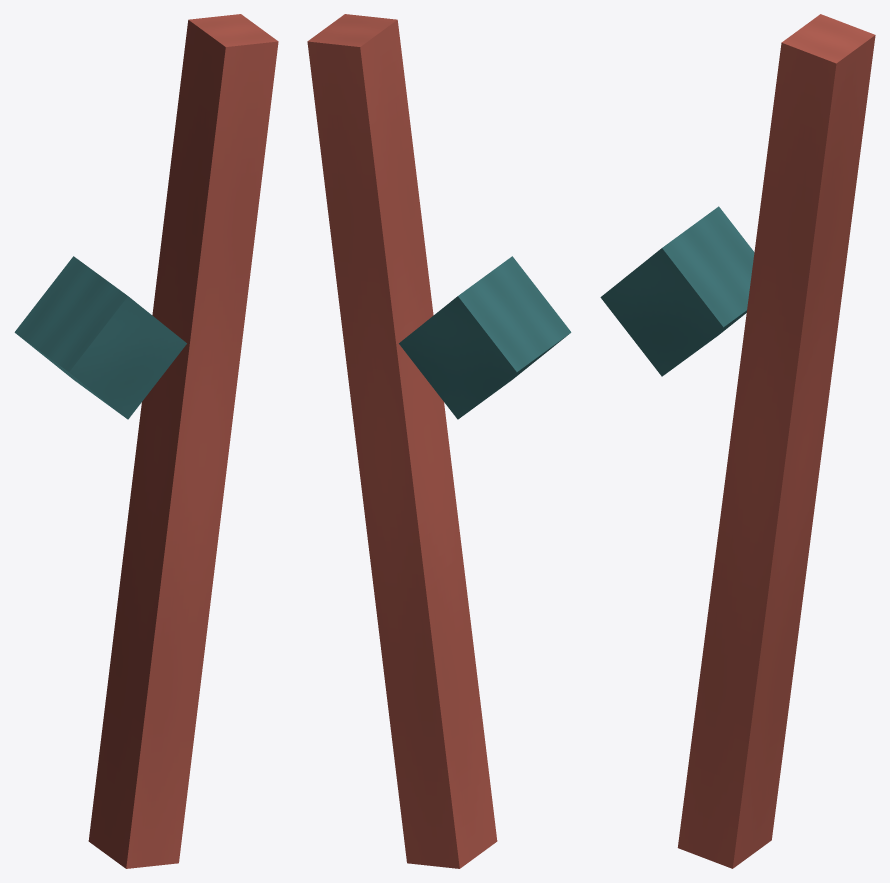
File: atlas100-s034-a05.lod2.glb
3 renders of one model, left to right at view 1: azimuth 30°, elevation 25°; view 2: azimuth 150°, elevation 25°; view 3: azimuth 330°, elevation 25°, orthographic. The views are drawn at different scales.
Visible parts, largest first — view 1: atlas100-s034-a05:part-001, atlas100-s034-a05:part-002; view 2: atlas100-s034-a05:part-001, atlas100-s034-a05:part-002; view 3: atlas100-s034-a05:part-001, atlas100-s034-a05:part-002.
Boxes of the visible parts, x1,y1,x2,y2 form: atlas100-s034-a05:part-001: (88,14,278,868); atlas100-s034-a05:part-002: (14,256,186,419); atlas100-s034-a05:part-001: (307,14,497,868); atlas100-s034-a05:part-002: (399,256,571,419); atlas100-s034-a05:part-001: (677,14,875,868); atlas100-s034-a05:part-002: (600,206,754,376).
Size of the model in its own units: 0.2014 by 0.7102 by 0.0874.
Materials: 2 (2 with a texture image).
